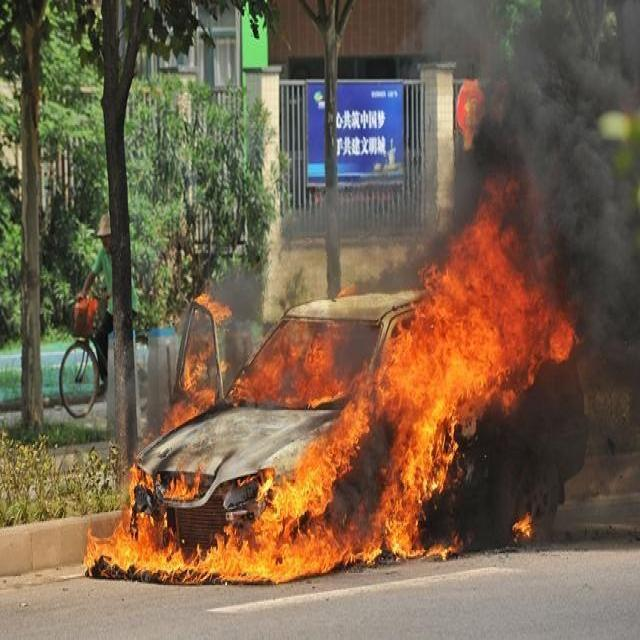Fire: (80, 175, 581, 584)
Smoke: (132, 3, 640, 550)
